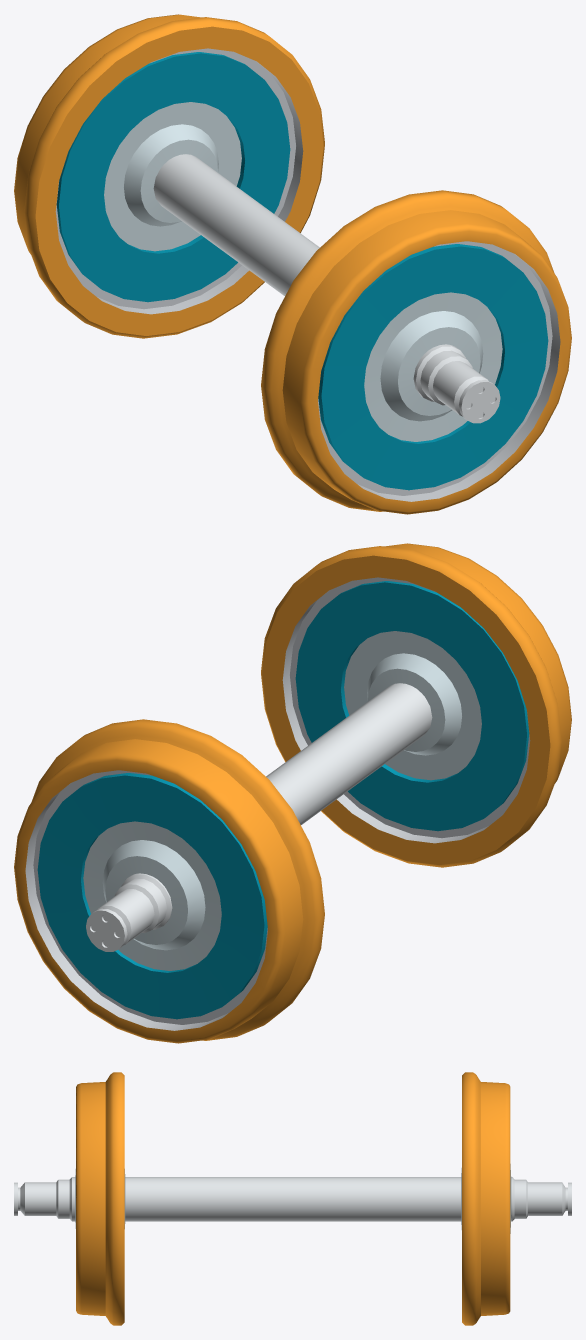
Rendered from wheelset0720.glb.
3 views of the same model, one above another, from view 1: azimuth 30°, elevation 25°; view 2: azimuth 150°, elevation 25°; view 3: azimuth 270°, elevation 25° (orthographic). The views are drawn at different scales.
Visible parts, largest first — view 1: Circle386, Circle387, Cylinder893; view 2: Circle387, Circle386, Cylinder893; view 3: Cylinder893, Circle386, Circle387.
Boxes of the visible parts, bbox=[...] form: Circle386: bbox=[261, 190, 571, 514]; Circle387: bbox=[14, 14, 324, 338]; Cylinder893: bbox=[153, 154, 500, 423]; Circle387: bbox=[14, 719, 324, 1043]; Circle386: bbox=[261, 543, 571, 867]; Cylinder893: bbox=[86, 683, 432, 951]; Cylinder893: bbox=[14, 1177, 571, 1221]; Circle386: bbox=[75, 1072, 125, 1325]; Circle387: bbox=[461, 1072, 511, 1325].
Size of the model in its own units: 0.7789 by 0.7789 by 1.71.
